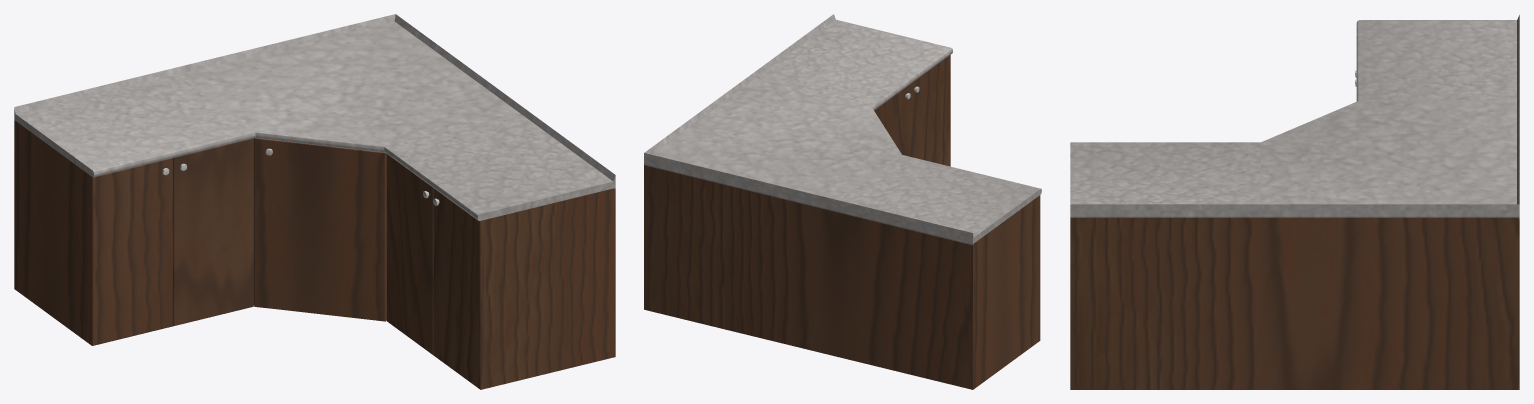
Rendered from CabinetRonded.glb.
3 renders of one model, left to right at view 1: azimuth 30°, elevation 25°; view 2: azimuth 150°, elevation 25°; view 3: azimuth 270°, elevation 25°, orthographic. The views are drawn at different scales.
Visible parts, largest first — view 1: KitchenCabinetRounded; view 2: KitchenCabinetRounded; view 3: KitchenCabinetRounded.
Boxes of the visible parts, box(x1,y1,x2,y2) form: KitchenCabinetRounded: box(14, 14, 615, 389); KitchenCabinetRounded: box(644, 14, 1041, 389); KitchenCabinetRounded: box(1070, 15, 1519, 389).
Size of the model in its own units: 1.89 by 0.8613 by 1.89.
1 material, 1 textured.
